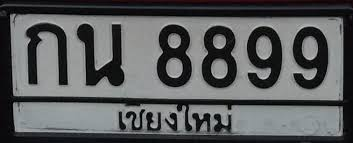txt01: (22, 20, 70, 87)
txt20: (75, 21, 127, 88)
